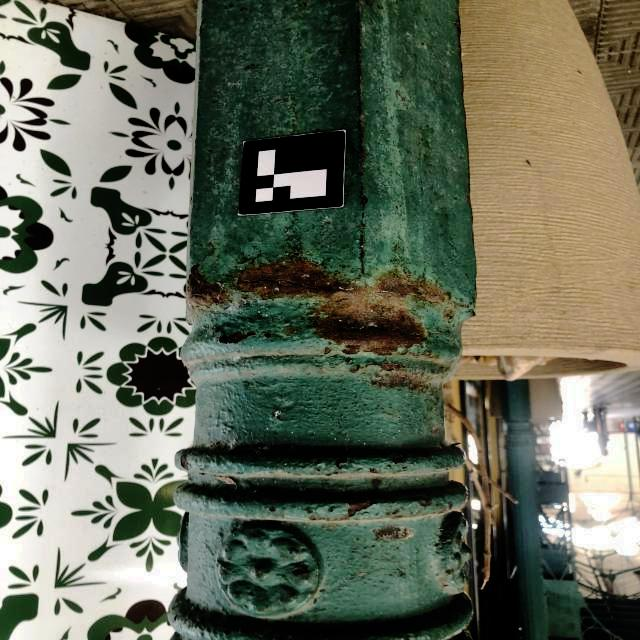Corrosion: (234, 255, 447, 356), (186, 265, 229, 308), (371, 370, 434, 391), (357, 12, 364, 165), (344, 496, 379, 517), (217, 330, 254, 345), (360, 192, 368, 261), (373, 527, 409, 540), (359, 361, 398, 372), (308, 516, 350, 522), (412, 349, 436, 359), (433, 503, 454, 514), (334, 456, 348, 468), (180, 454, 189, 471), (293, 567, 312, 575), (420, 500, 435, 508), (323, 346, 334, 356), (281, 327, 294, 335), (467, 186, 471, 209), (456, 532, 462, 545), (445, 311, 453, 319), (445, 569, 454, 575), (392, 515, 402, 520), (264, 333, 272, 339), (393, 458, 401, 463), (268, 507, 276, 512), (370, 469, 379, 473), (307, 510, 313, 514), (392, 511, 399, 514)
